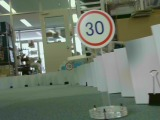speed_30: (75, 9, 116, 49)
